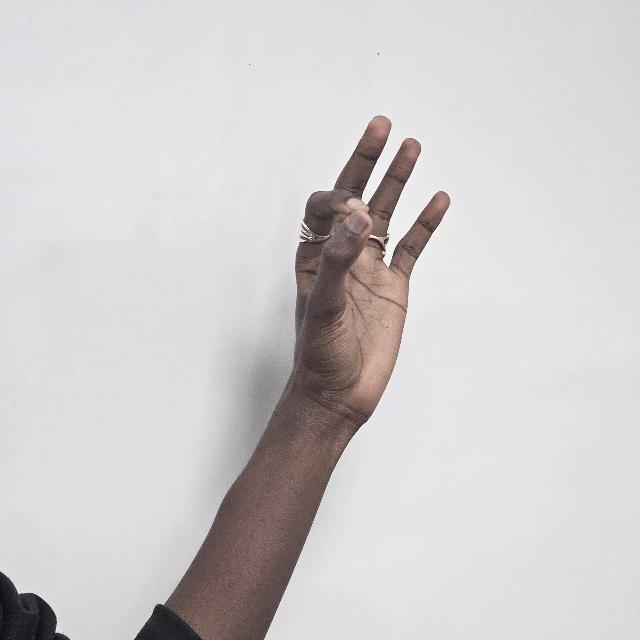Bolinha: (297, 112, 448, 432)
